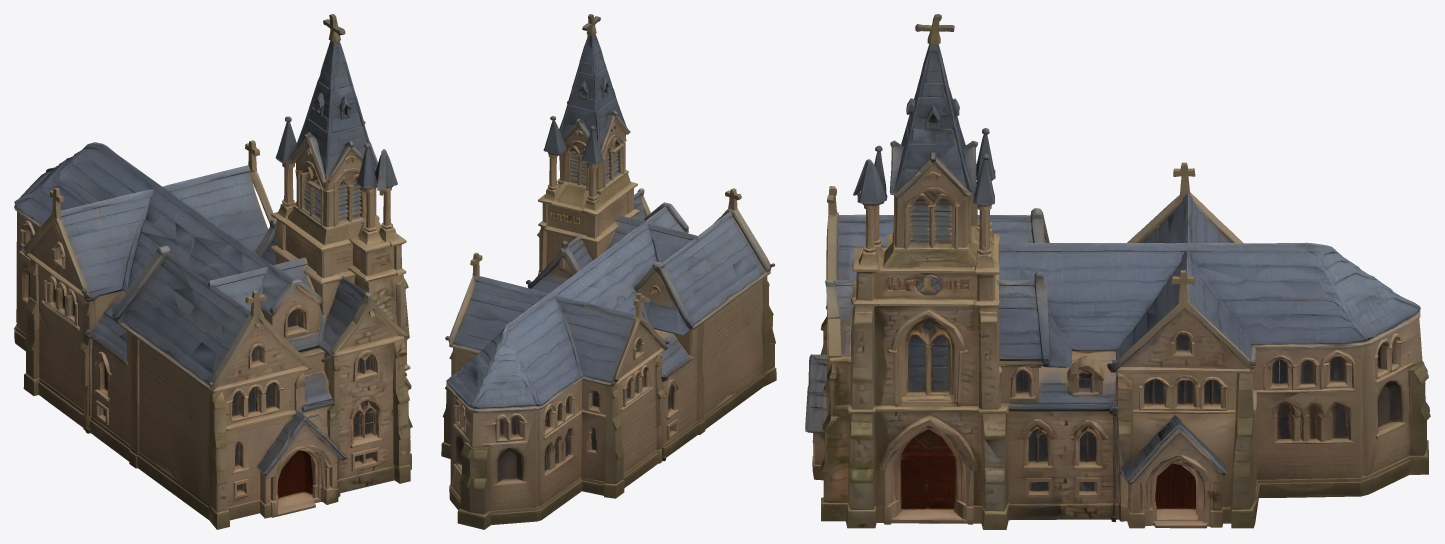
3 renders of one model, left to right at view 1: azimuth 30°, elevation 25°; view 2: azimuth 150°, elevation 25°; view 3: azimuth 270°, elevation 25°, orthographic. The views are drawn at different scales.
Parts seen in each view (by area): view 1: model; view 2: model; view 3: model.
Boxes of the visible parts, x1,y1,x2,y2 form: model: (14, 14, 412, 529); model: (441, 14, 776, 529); model: (805, 14, 1430, 529).
Bounding box in the file's own units: 0.8694 × 1.65 × 1.9.
Materials: 1 (1 with a texture image).
